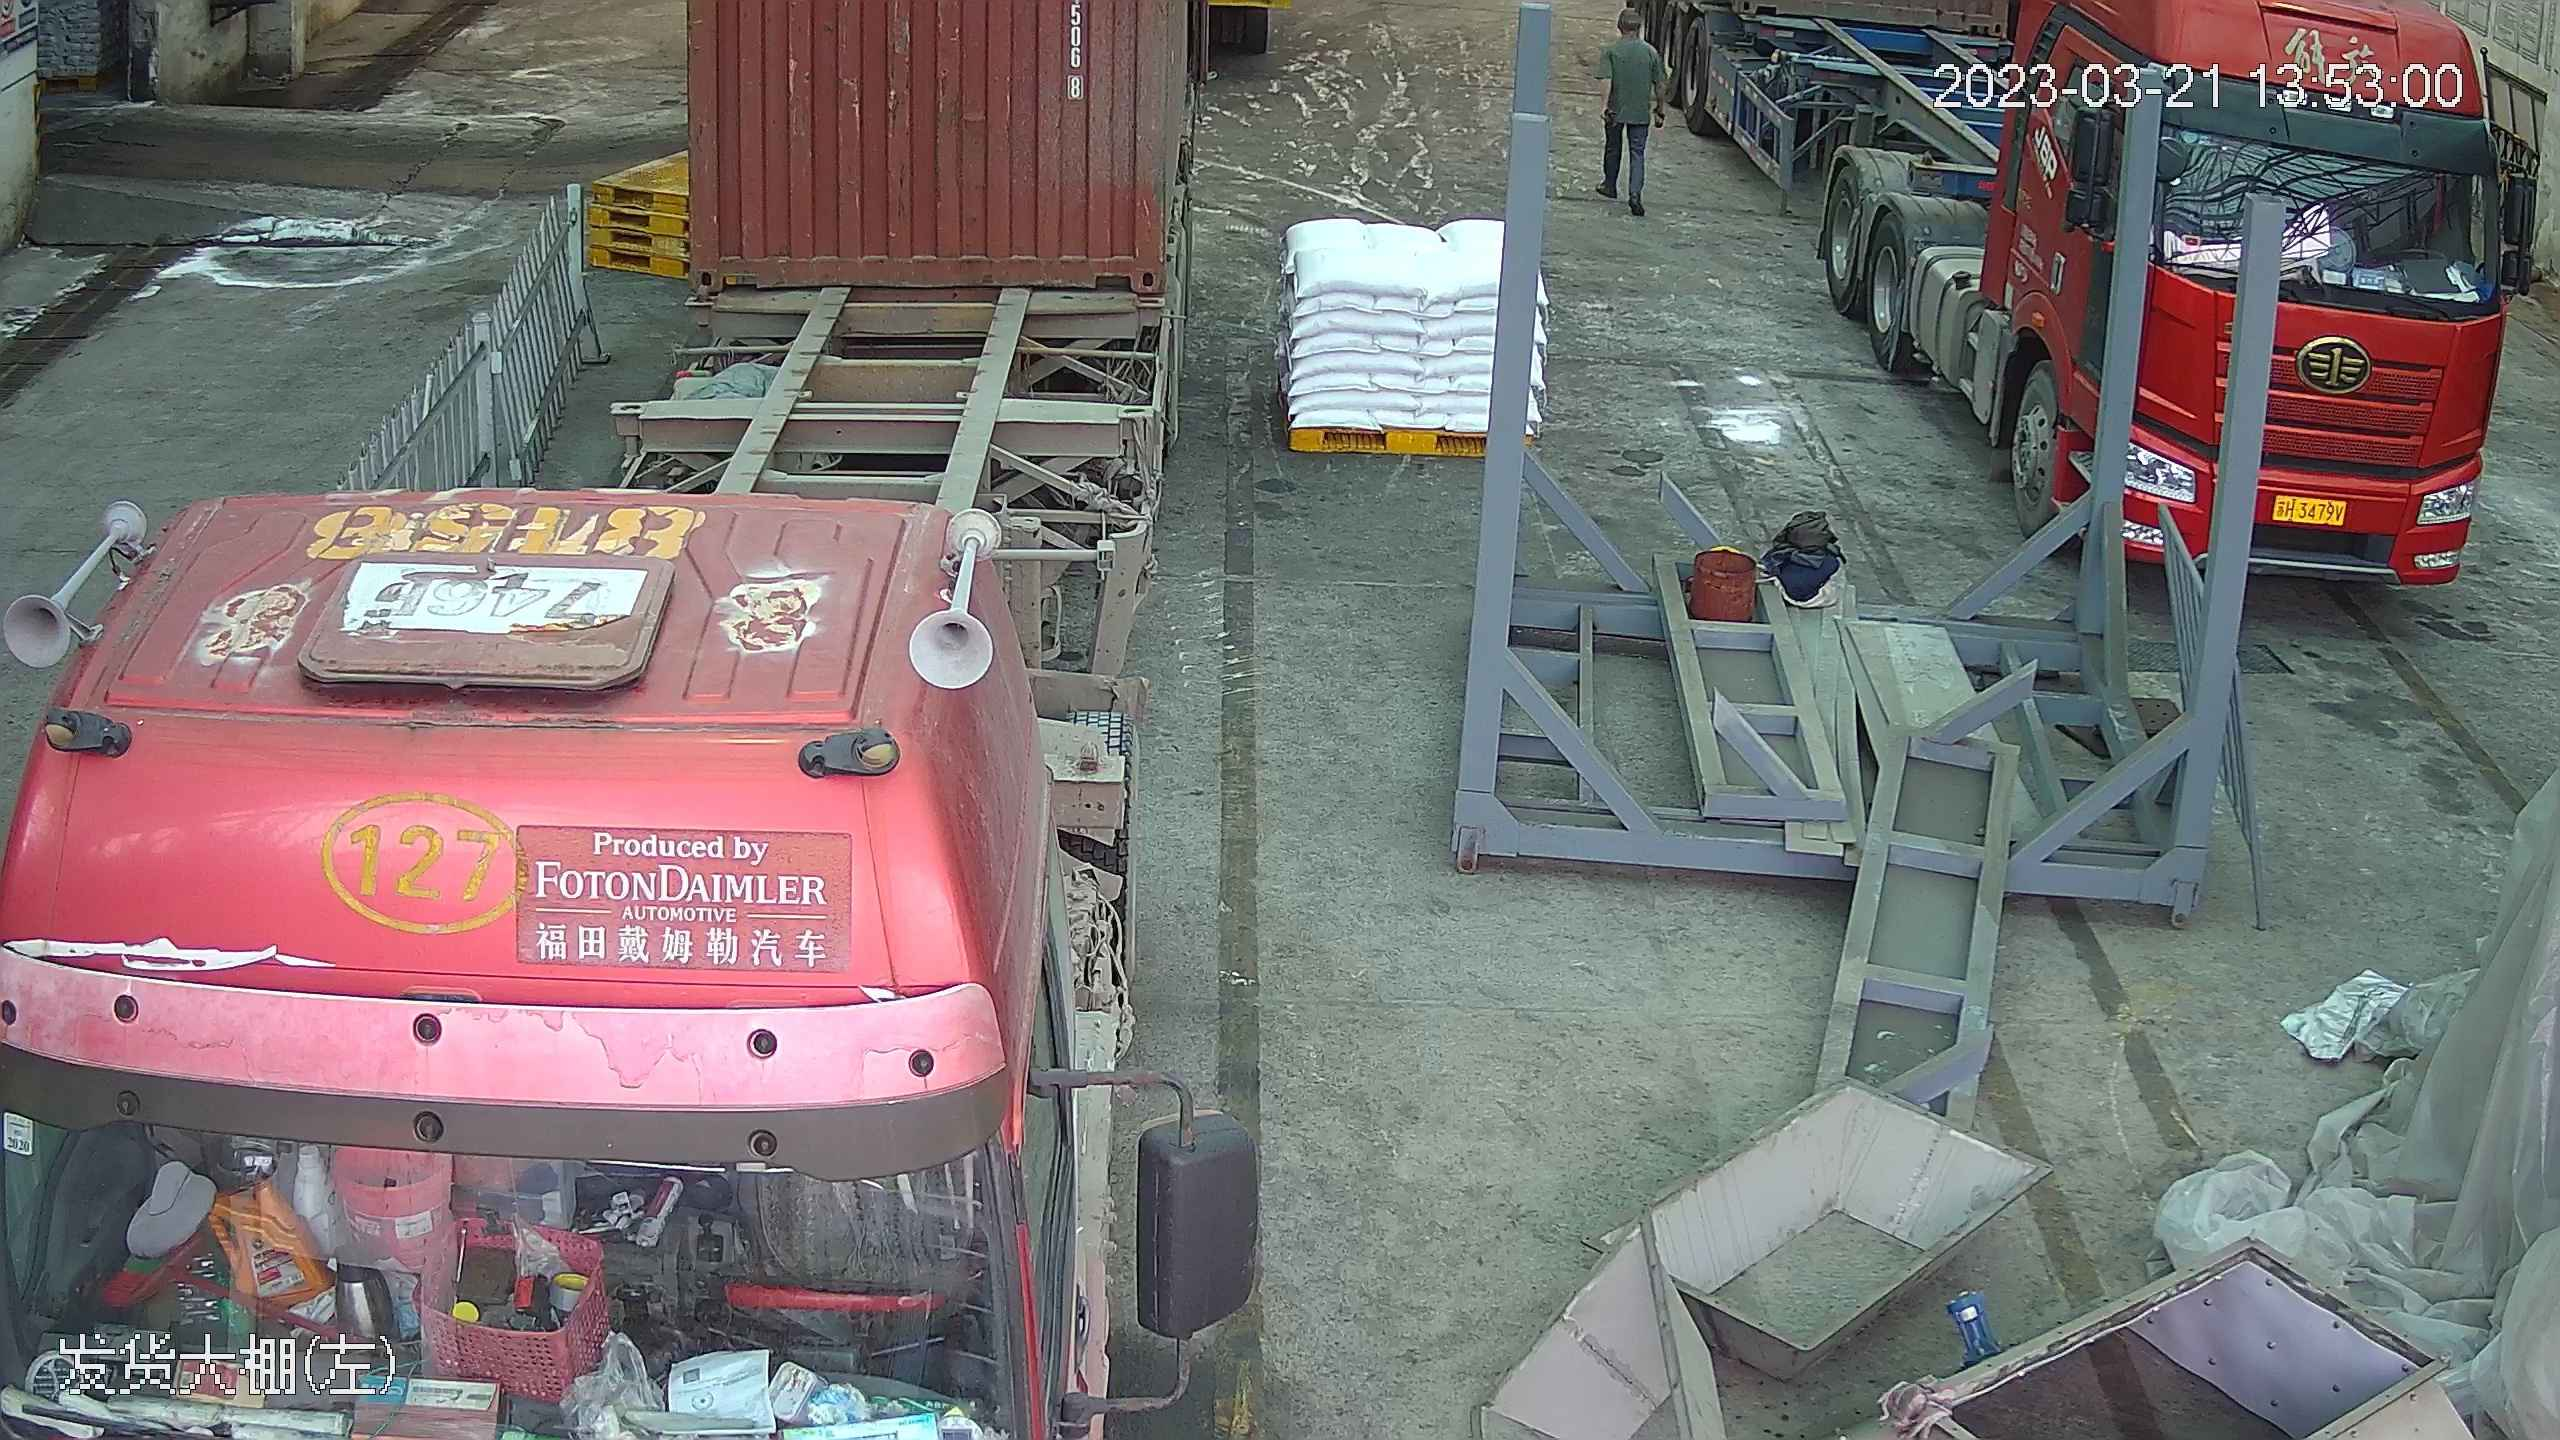head: (1602, 7, 1656, 70)
helmet: (1612, 5, 1639, 27)
people: (1590, 8, 1660, 215)
truck: (0, 0, 1166, 1440), (1978, 0, 2537, 597)
